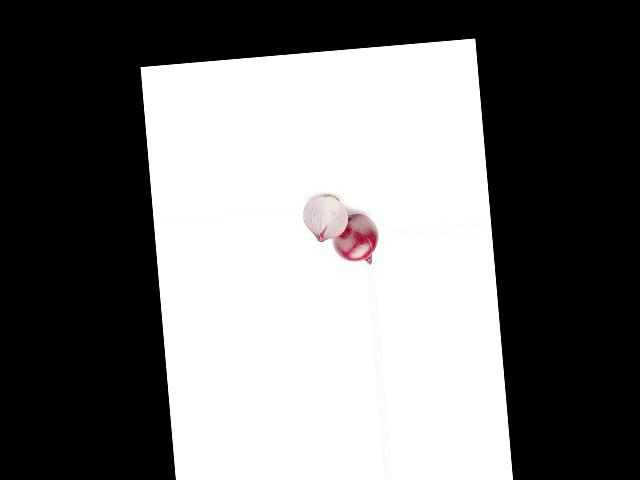onion: (302, 194, 346, 244)
